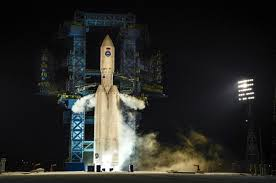ten_lua: (85, 36, 135, 181)
